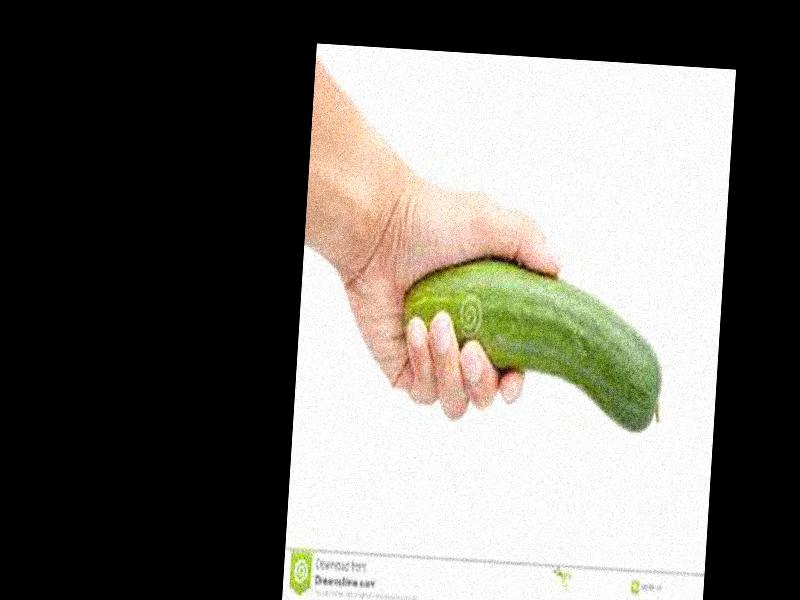Cucumber: (397, 258, 669, 434)
